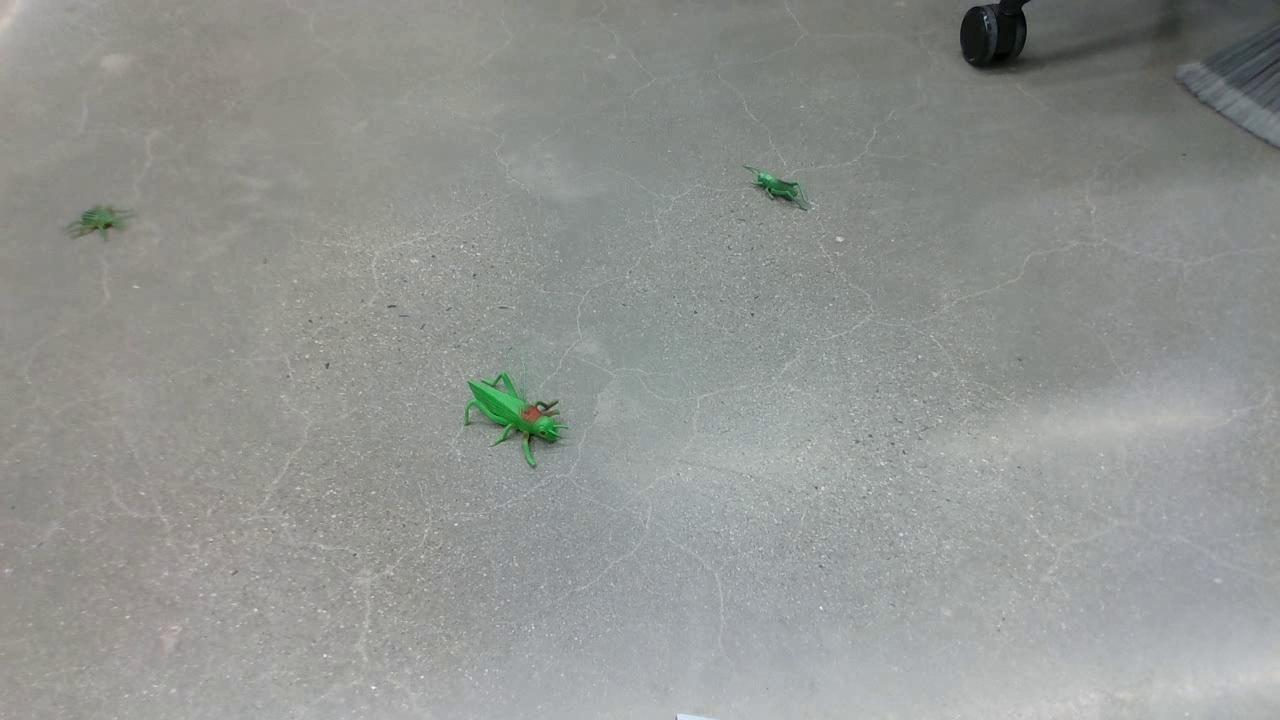grasshopper: (457, 372, 566, 468)
